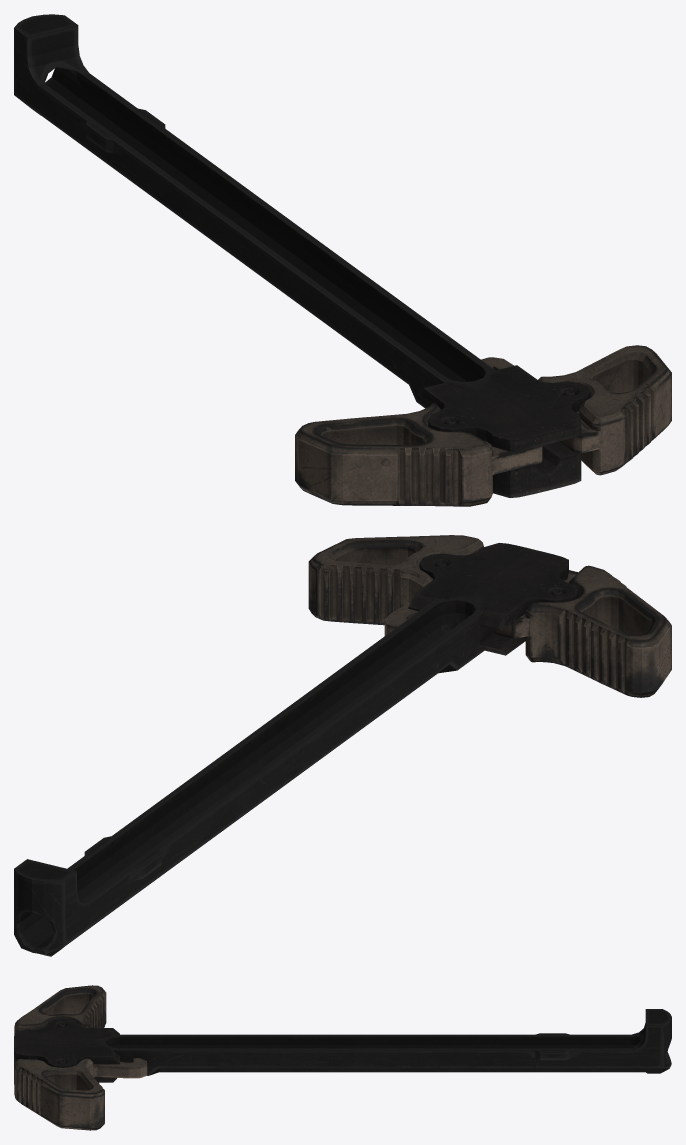
The picture shows the model from 3 angles, top to bottom: view 1: azimuth 30°, elevation 25°; view 2: azimuth 150°, elevation 25°; view 3: azimuth 270°, elevation 25°; orthographic projection. The views are drawn at different scales.
Parts seen in each view (by area): view 1: TW_5b2240bf5acfc40dc528af69_PZ_Import; view 2: TW_5b2240bf5acfc40dc528af69_PZ_Import; view 3: TW_5b2240bf5acfc40dc528af69_PZ_Import.
Boxes of the visible parts, x1,y1,x2,y2 form: TW_5b2240bf5acfc40dc528af69_PZ_Import: (14, 14, 671, 506); TW_5b2240bf5acfc40dc528af69_PZ_Import: (14, 535, 671, 956); TW_5b2240bf5acfc40dc528af69_PZ_Import: (14, 985, 671, 1130).
Size of the model in its own units: 0.0404 by 0.1015 by 0.0106.
1 material, 1 textured.
